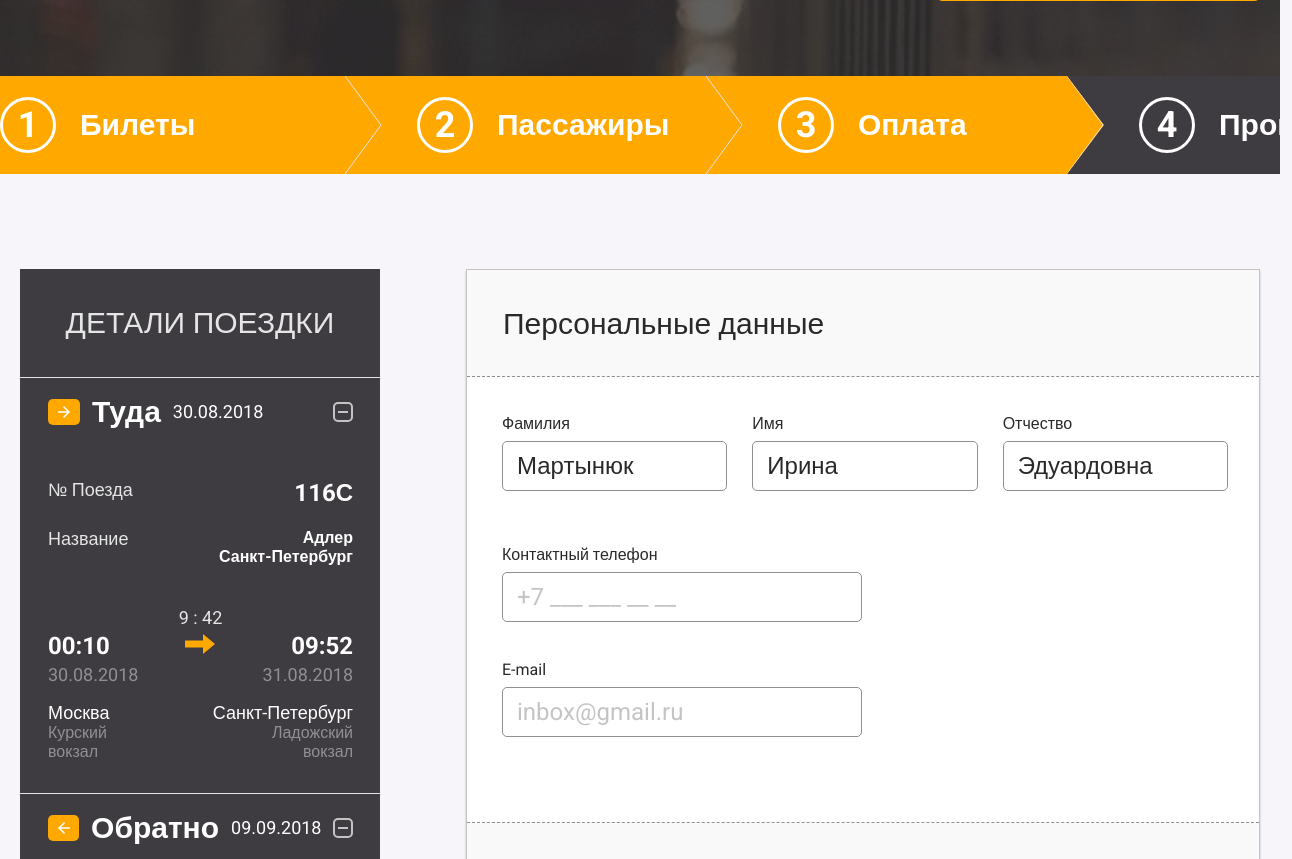
детали поездки › разделы сворачиваются и разворачиваются
(page scrolled)
Expected: the text "№ Поезда" is shown, [48, 479, 133, 508]
Click the button named "Свернуть: Туда": (343, 412) [333, 402, 353, 422]
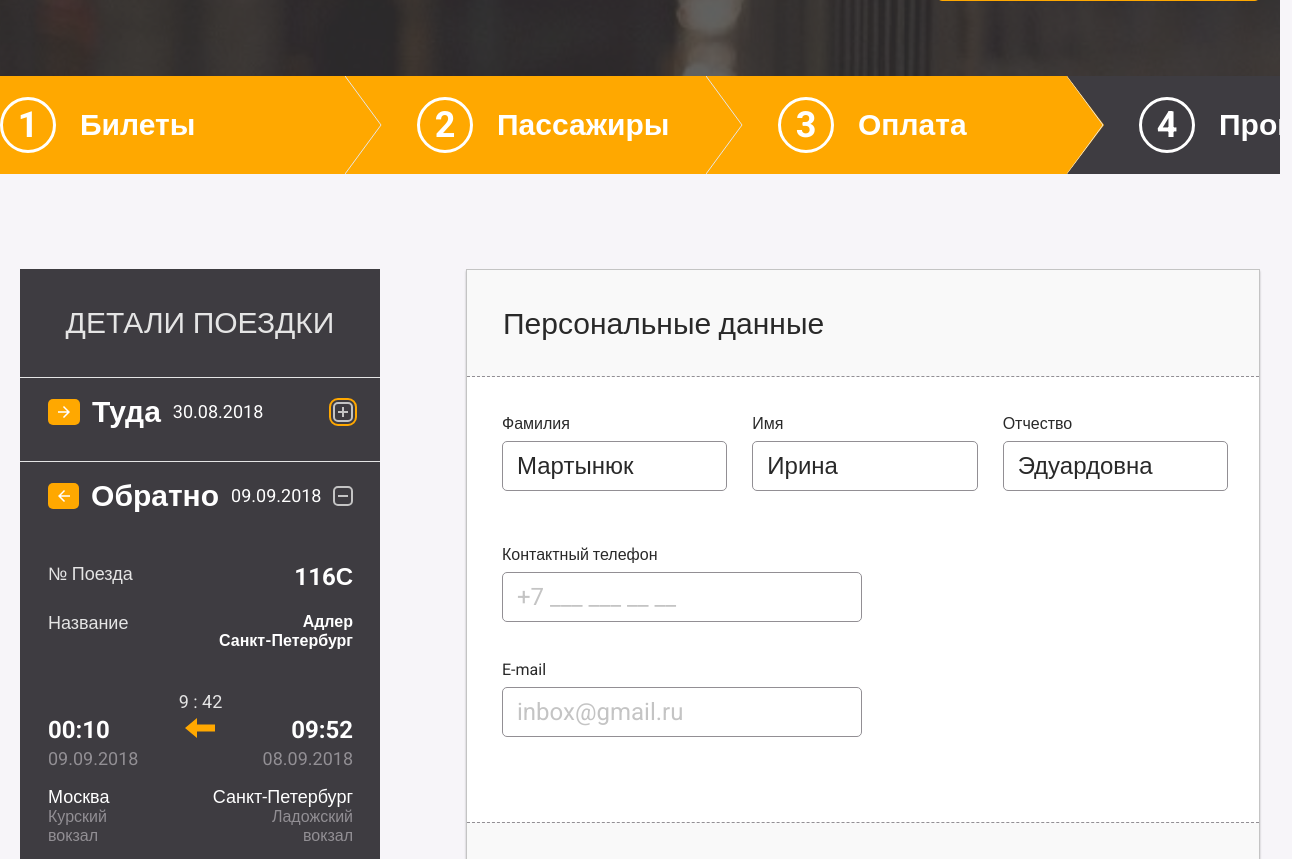
Now the button named "Развернуть: Туда" is collapsed
Click the button named "Развернуть: Туда": (343, 412) [333, 402, 353, 422]
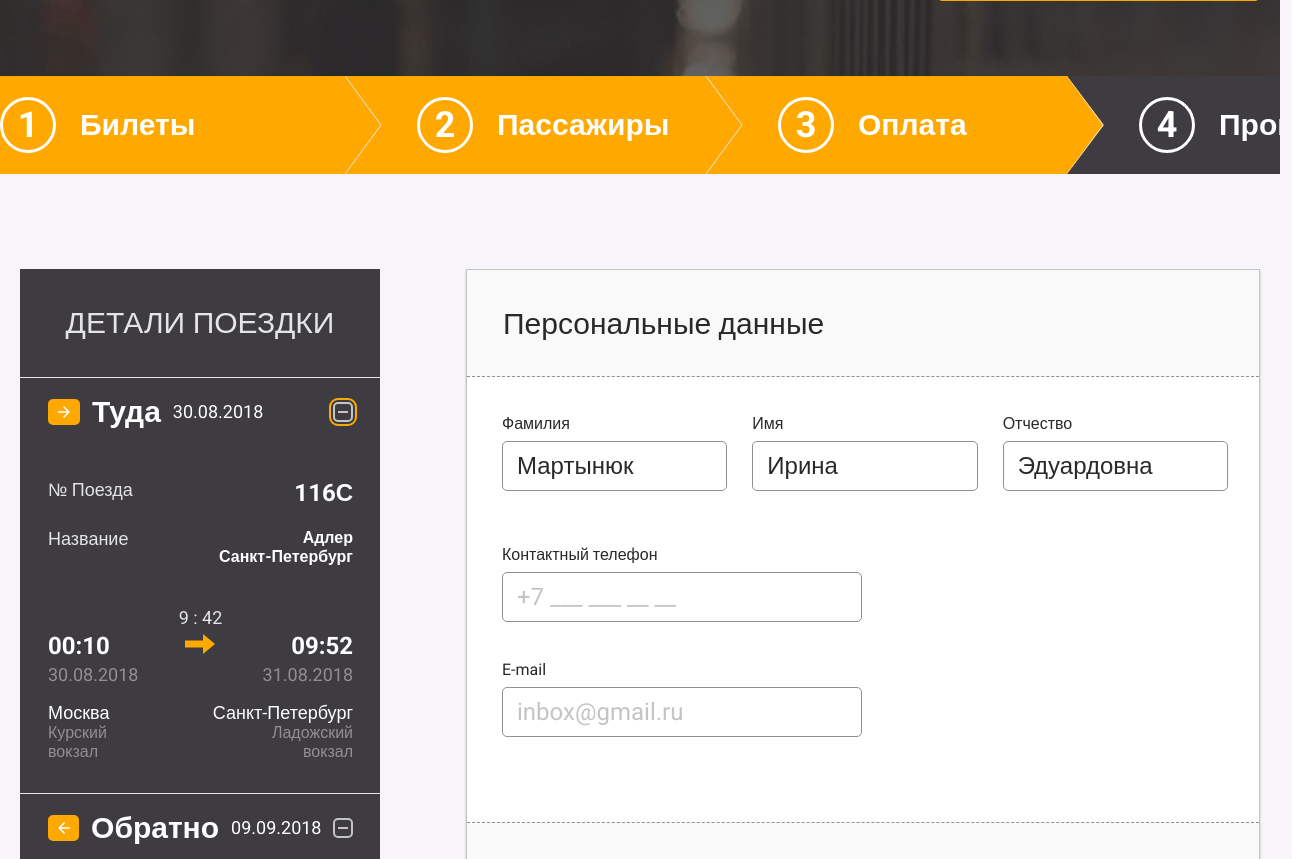
Now the text "№ Поезда" is shown, box [48, 479, 133, 508]
